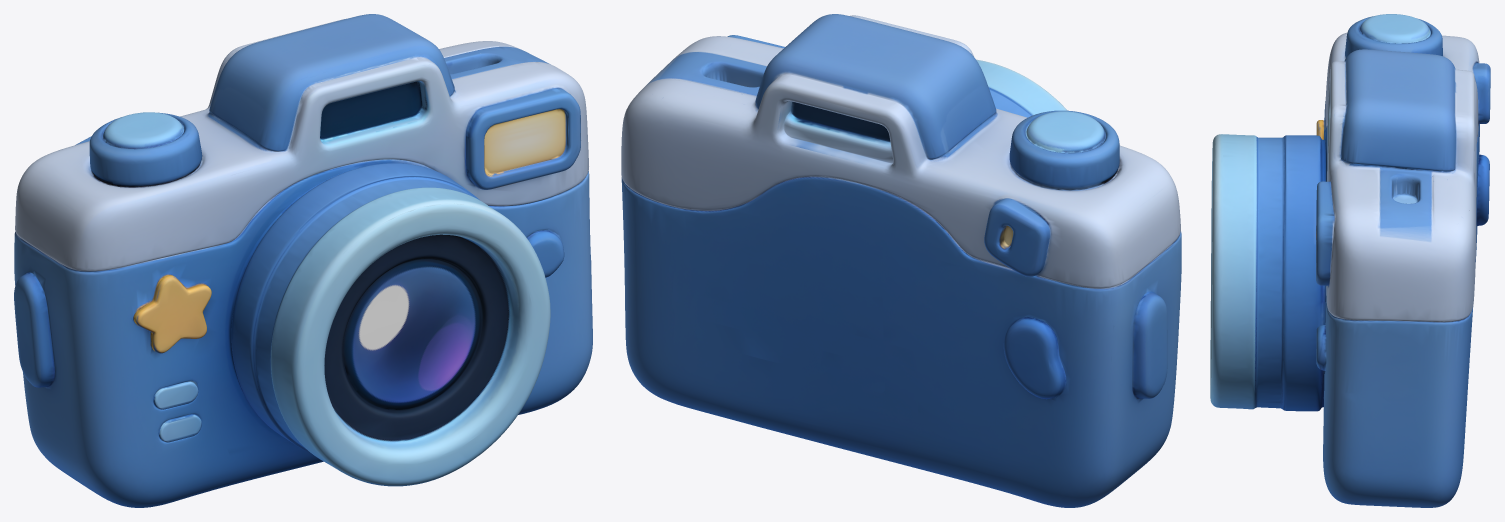
File: Camera.fbx
The picture shows the model from 3 angles, left to right: view 1: azimuth 30°, elevation 25°; view 2: azimuth 150°, elevation 25°; view 3: azimuth 270°, elevation 25°; orthographic projection. The views are drawn at different scales.
Parts seen in each view (by area): view 1: node_0; view 2: node_0; view 3: node_0.
Boxes of the visible parts, x1,y1,x2,y2 form: node_0: (14, 14, 592, 507); node_0: (621, 14, 1181, 507); node_0: (1210, 14, 1490, 507).
Size of the model in its own units: 101 by 71.95 by 51.58.
Materials: 1 (1 with a texture image).
